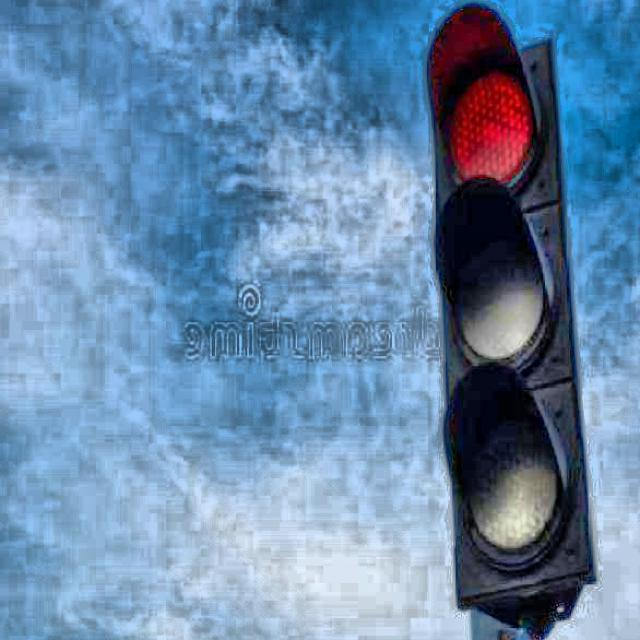red: (426, 2, 569, 625)
